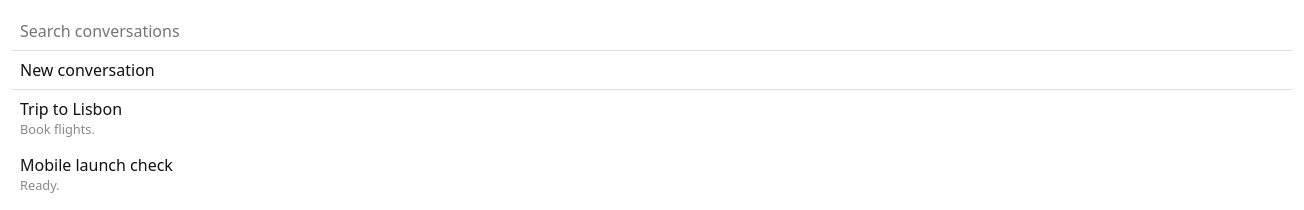
Test: ConversationList › search (chat-ux Phase 3 Task 1, audit #8) › filters by lastMessagePreview, case-insensitively
Expected: the text "Mobile launch check" is shown, x1=20 y1=154 x2=173 y2=176
Type "flights" into the search field labelled "Search conversations" at (652, 32), box x1=12 y1=12 x2=1292 y2=51
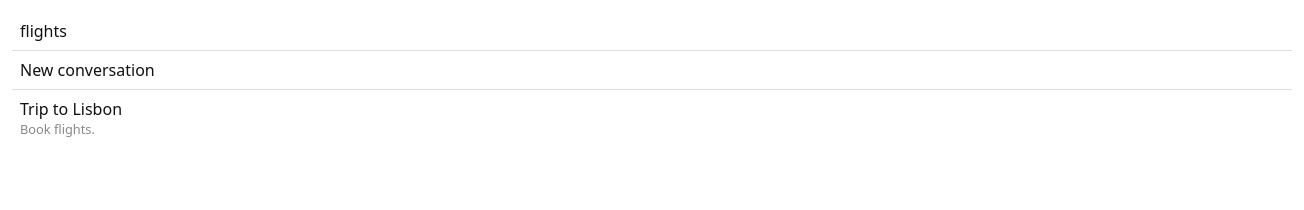
Expected: the text "Trip to Lisbon" is shown, x1=20 y1=98 x2=122 y2=120
Expected: the button "Mobile launch check" is gone
